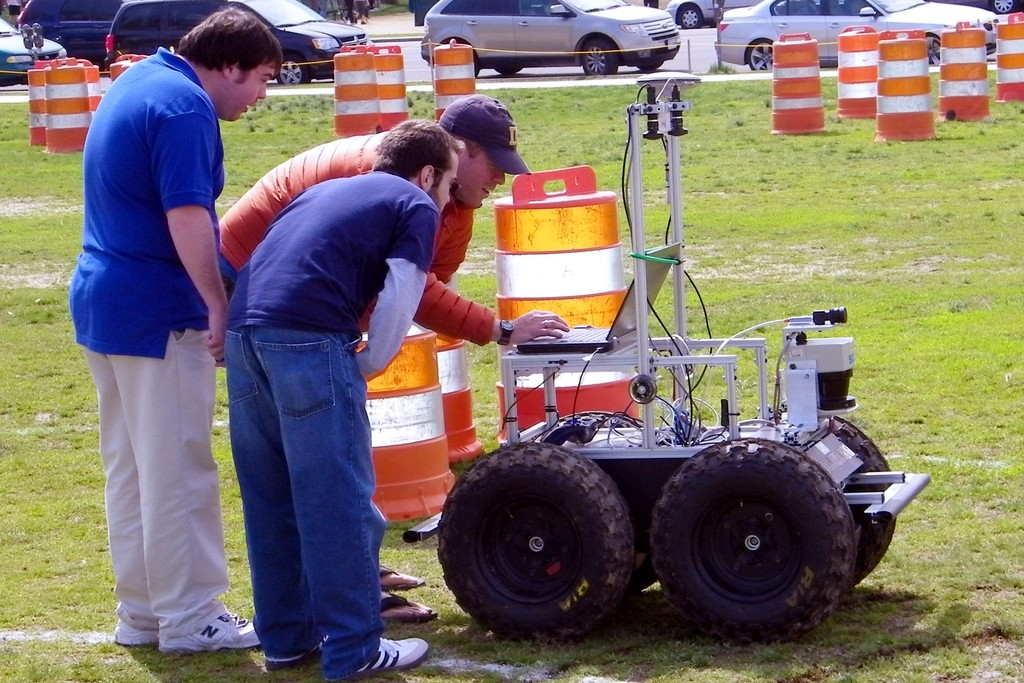Car: (98, 0, 369, 83), (714, 0, 1005, 71), (420, 0, 679, 78), (14, 0, 131, 68), (0, 10, 77, 89), (654, 0, 755, 31), (920, 0, 1023, 19)
